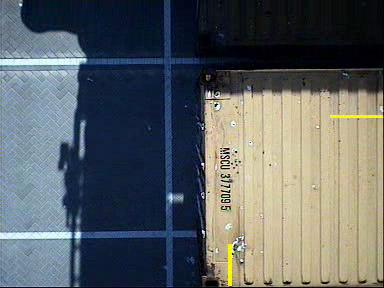groundmarker_2: (133, 60, 207, 103), (139, 203, 213, 246), (146, 264, 197, 285)
